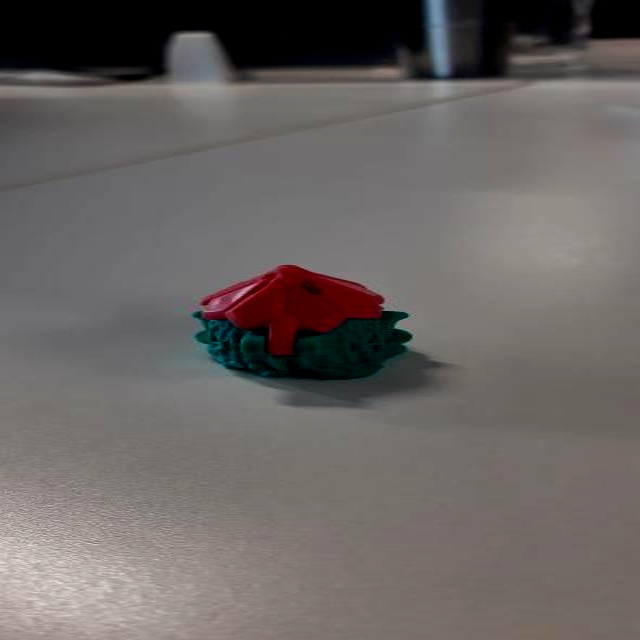House: (182, 258, 425, 382)
